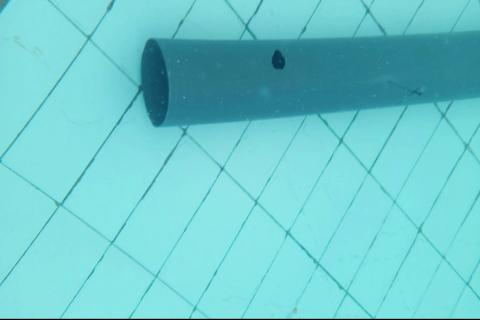kebocoran: (272, 50, 287, 70)
keretakan: (389, 78, 424, 98)
